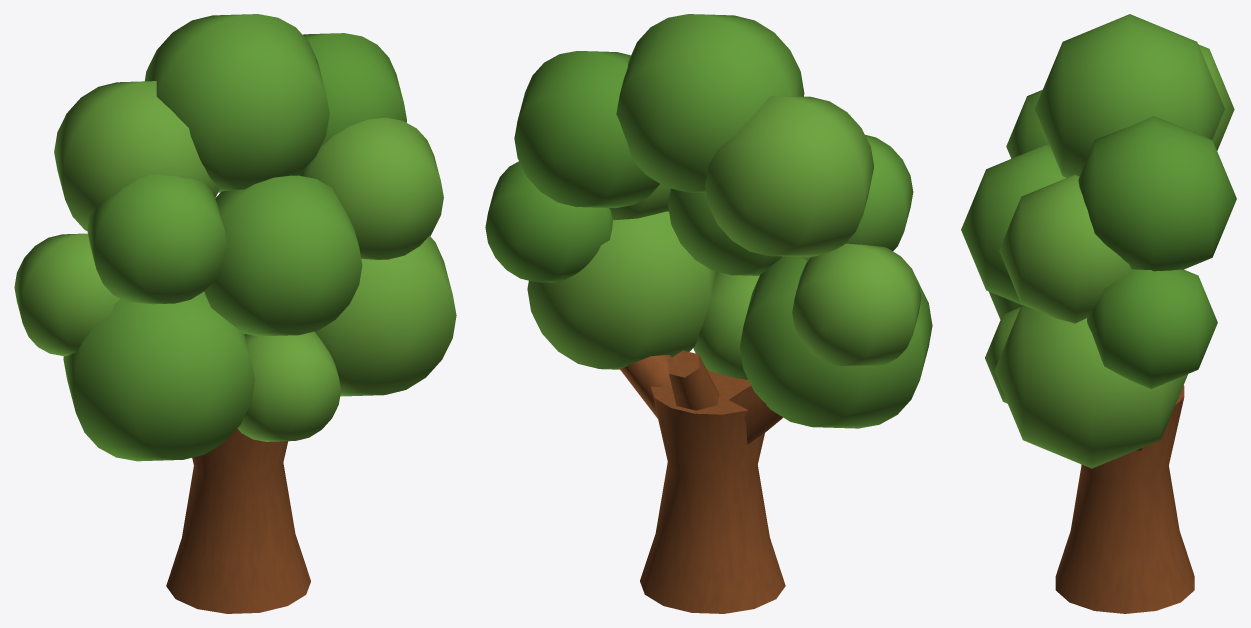
The model's file is tree-bushy.fbx.
3 renders of one model, left to right at view 1: azimuth 30°, elevation 25°; view 2: azimuth 150°, elevation 25°; view 3: azimuth 270°, elevation 25°, orthographic.
Parts seen in each view (by area): view 1: tree-bushy; view 2: tree-bushy; view 3: tree-bushy.
Part boxes in pixels (x1=…): tree-bushy: x1=14, y1=14, x2=456, y2=613; tree-bushy: x1=485, y1=14, x2=932, y2=613; tree-bushy: x1=961, y1=14, x2=1236, y2=613.
Size of the model in its own units: 2000 by 2600 by 1160.
Materials: 1 (1 with a texture image).
